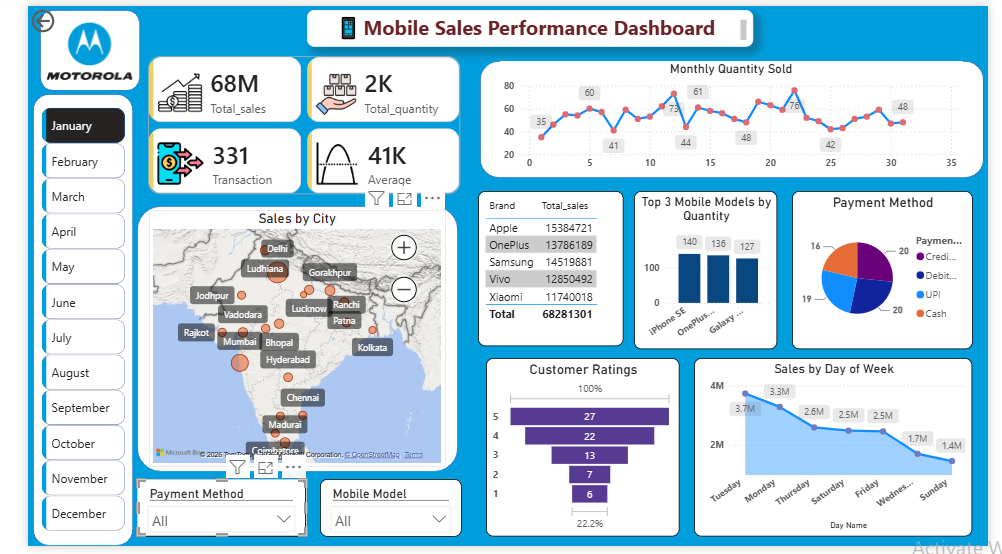

Layout of this report page (visuals, bound fields, positions):
{"tool":"powerbi","page":{"name":"Page 1","canvas":[1280,720],"ordinal":0},"visuals":[{"type":"shape","box":[15.6,5.7,133.2,107.7],"z":0},{"type":"image","box":[21.3,8.5,119.1,104.9],"z":1000},{"type":"shape","box":[7.1,117.6,133.2,602.4],"z":2000},{"type":"advancedSlicerVisual","fields":{"Values":["mobile_sales_data.Date.Variation.Date Hierarchy.Month"]},"box":[12.8,130.4,121.9,576.9],"z":3000},{"type":"cardVisual","fields":{"Data":["mobile_sales_data.Total_sales","mobile_sales_data.Total_quantity","mobile_sales_data.Transaction","mobile_sales_data.Average"]},"box":[146,52.4,446.5,214],"z":4000},{"type":"shape","box":[146,266.5,428,354.3],"z":5000},{"type":"map","title":"Sales by City","fields":{"Category":["mobile_sales_data.City"],"Size":["mobile_sales_data.Total_sales"]},"box":[161.6,272.1,395.4,343],"z":6000},{"type":"shape","box":[602.4,73.7,671.8,155.9],"z":7000},{"type":"lineChart","title":"Monthly Quantity Sold","fields":{"Y":["mobile_sales_data.Total_quantity"],"Category":["mobile_sales_data.Date.Variation.Date Hierarchy.Month","mobile_sales_data.Date.Variation.Date Hierarchy.Day"]},"box":[629.3,73.7,616.5,154.5],"z":8000},{"type":"areaChart","title":"Sales by Day of Week","fields":{"Y":["mobile_sales_data.Total_sales"],"Category":["mobile_sales_data.Day Name"]},"box":[888.7,469.1,371.3,238.1],"z":9000},{"type":"pieChart","title":" Payment Method","fields":{"Category":["mobile_sales_data.Payment Method"],"Y":["mobile_sales_data.Transaction"]},"box":[1019.1,246.6,240.9,211.2],"z":10000},{"type":"clusteredColumnChart","title":"Top 3 Mobile Models by Quantity","fields":{"Category":["mobile_sales_data.Mobile Model"],"Y":["mobile_sales_data.Total_quantity"]},"box":[807.9,246.6,191.3,211.2],"z":11000},{"type":"funnel","title":"Customer Ratings","fields":{"Category":["mobile_sales_data.Customer Ratings"],"Y":["CountNonNull(mobile_sales_data.Customer Ratings)"]},"box":[610.9,469.1,258,238.1],"z":12000},{"type":"tableEx","fields":{"Values":["mobile_sales_data.Brand","mobile_sales_data.Total_sales"]},"box":[599.5,246.6,194.2,206.9],"z":13000},{"type":"actionButton","box":[0,0,100,40],"z":14000},{"type":"slicer","fields":{"Values":["mobile_sales_data.Payment Method"]},"box":[146,630.7,225.4,76.5],"z":15000},{"type":"slicer","fields":{"Values":["mobile_sales_data.Mobile Model"]},"box":[389.8,630.7,188.5,76.5],"z":16000},{"type":"textbox","box":[372,5.3,594.7,49.3],"z":17000}]}

Visuals, with their boxes in screenshot pixels (x1, y1, x2, y2):
shape: region(35, 4, 136, 86)
image: region(40, 6, 130, 86)
shape: region(29, 89, 130, 546)
advancedSlicerVisual - mobile_sales_data.Date.Variation.Date Hierarchy.Month: region(33, 99, 126, 536)
cardVisual - mobile_sales_data.Total_sales x mobile_sales_data.Total_quantity: region(134, 40, 472, 202)
shape: region(134, 202, 458, 470)
"Sales by City" map: region(146, 206, 446, 466)
shape: region(480, 56, 989, 174)
"Monthly Quantity Sold" lineChart: region(500, 56, 967, 173)
"Sales by Day of Week" areaChart: region(697, 355, 978, 536)
" Payment Method" pieChart: region(796, 187, 978, 347)
"Top 3 Mobile Models by Quantity" clusteredColumnChart: region(636, 187, 781, 347)
"Customer Ratings" funnel: region(486, 355, 682, 536)
tableEx - mobile_sales_data.Brand x mobile_sales_data.Total_sales: region(478, 187, 625, 344)
actionButton: region(23, 0, 99, 30)
slicer - mobile_sales_data.Payment Method: region(134, 478, 305, 536)
slicer - mobile_sales_data.Mobile Model: region(319, 478, 462, 536)
textbox: region(305, 4, 756, 41)
